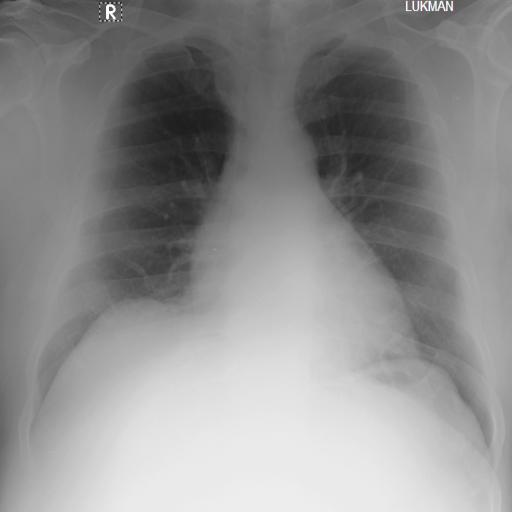kardiomegali: (24, 0, 503, 451)
